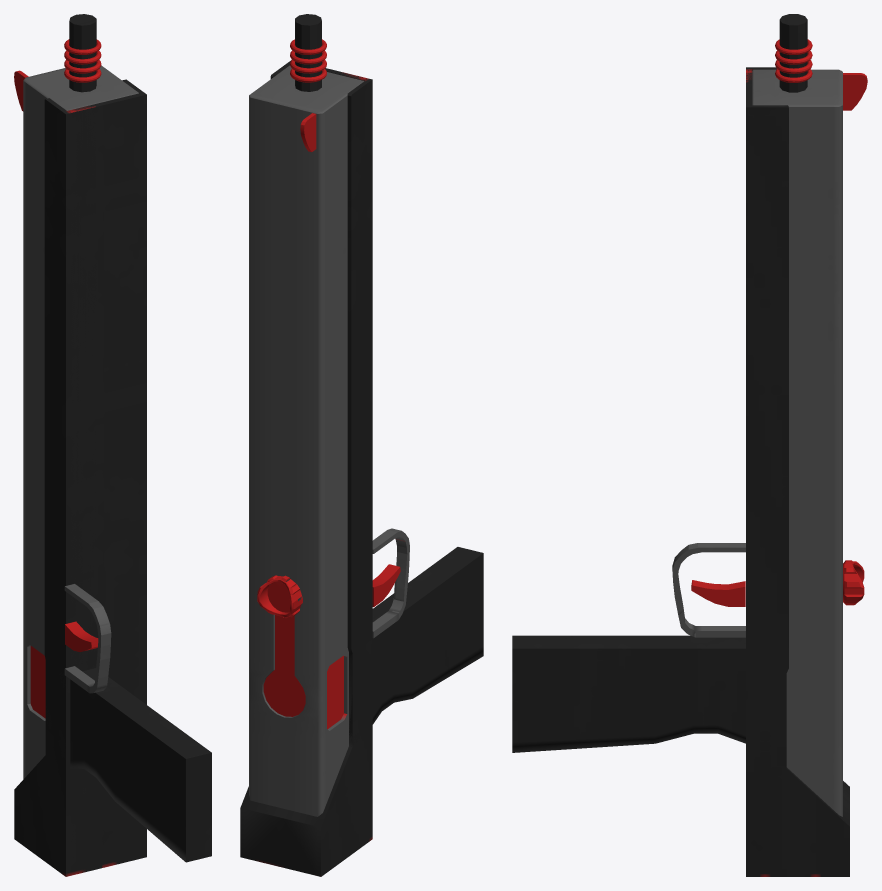
Rendered from escopeta.obj.
3 renders of one model, left to right at view 1: azimuth 30°, elevation 25°; view 2: azimuth 150°, elevation 25°; view 3: azimuth 270°, elevation 25°, orthographic.
Parts seen in each view (by area): view 1: escopeta:pCylinder5; view 2: escopeta:pCylinder5; view 3: escopeta:pCylinder5.
Part boxes in pixels (bbox=[...]): escopeta:pCylinder5: bbox=[14, 14, 211, 876]; escopeta:pCylinder5: bbox=[240, 14, 483, 876]; escopeta:pCylinder5: bbox=[512, 14, 867, 876].
Size of the model in its own units: 0.1132 by 1.09 by 0.4196.
Materials: 1 (1 with a texture image).
